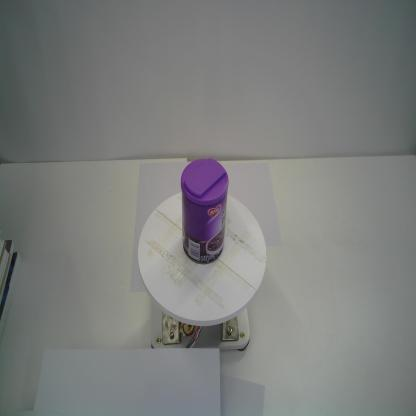Canned Food: (180, 158, 230, 265)
